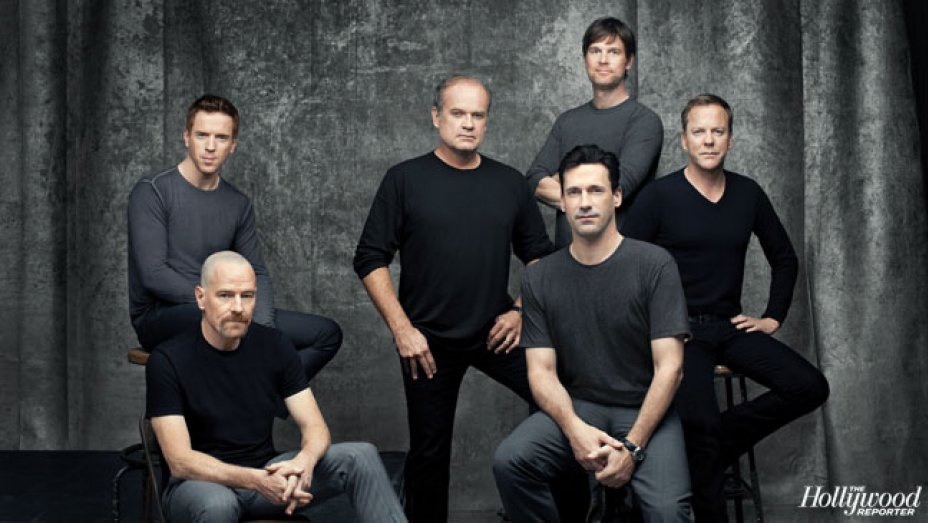bad: (204, 274, 266, 336), (440, 95, 492, 147), (682, 118, 734, 170), (561, 176, 613, 228), (189, 122, 232, 166), (583, 41, 626, 84)
